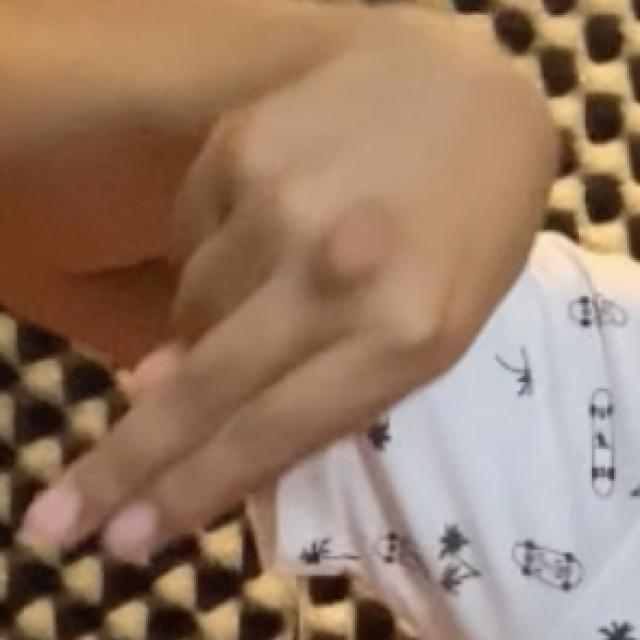N: (12, 30, 582, 604)
